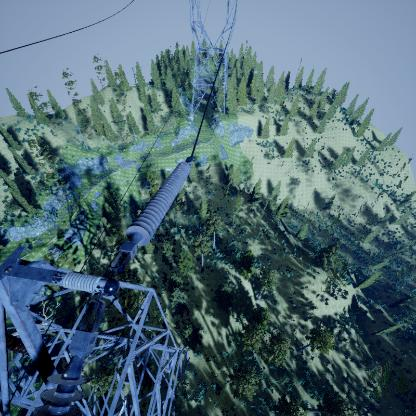insulator: (125, 161, 192, 251)
